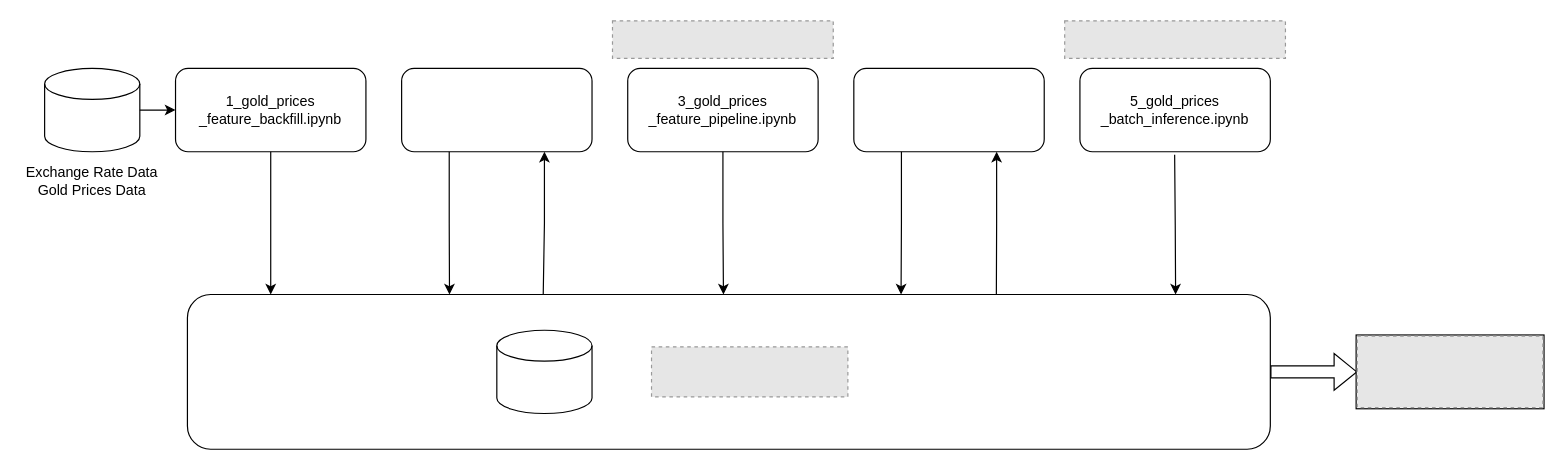
Image size: 1565x470. Some labels were removed from this diagram. Grey dashed boxes stand in for pictures. Each missing label, with the centre of its shape:
"2_exchange_rates_forecast _training_pipeline.ipynb" goes at (496,109).
"4_gold_prices _training_pipeline.ipynb" goes at (948,109).
